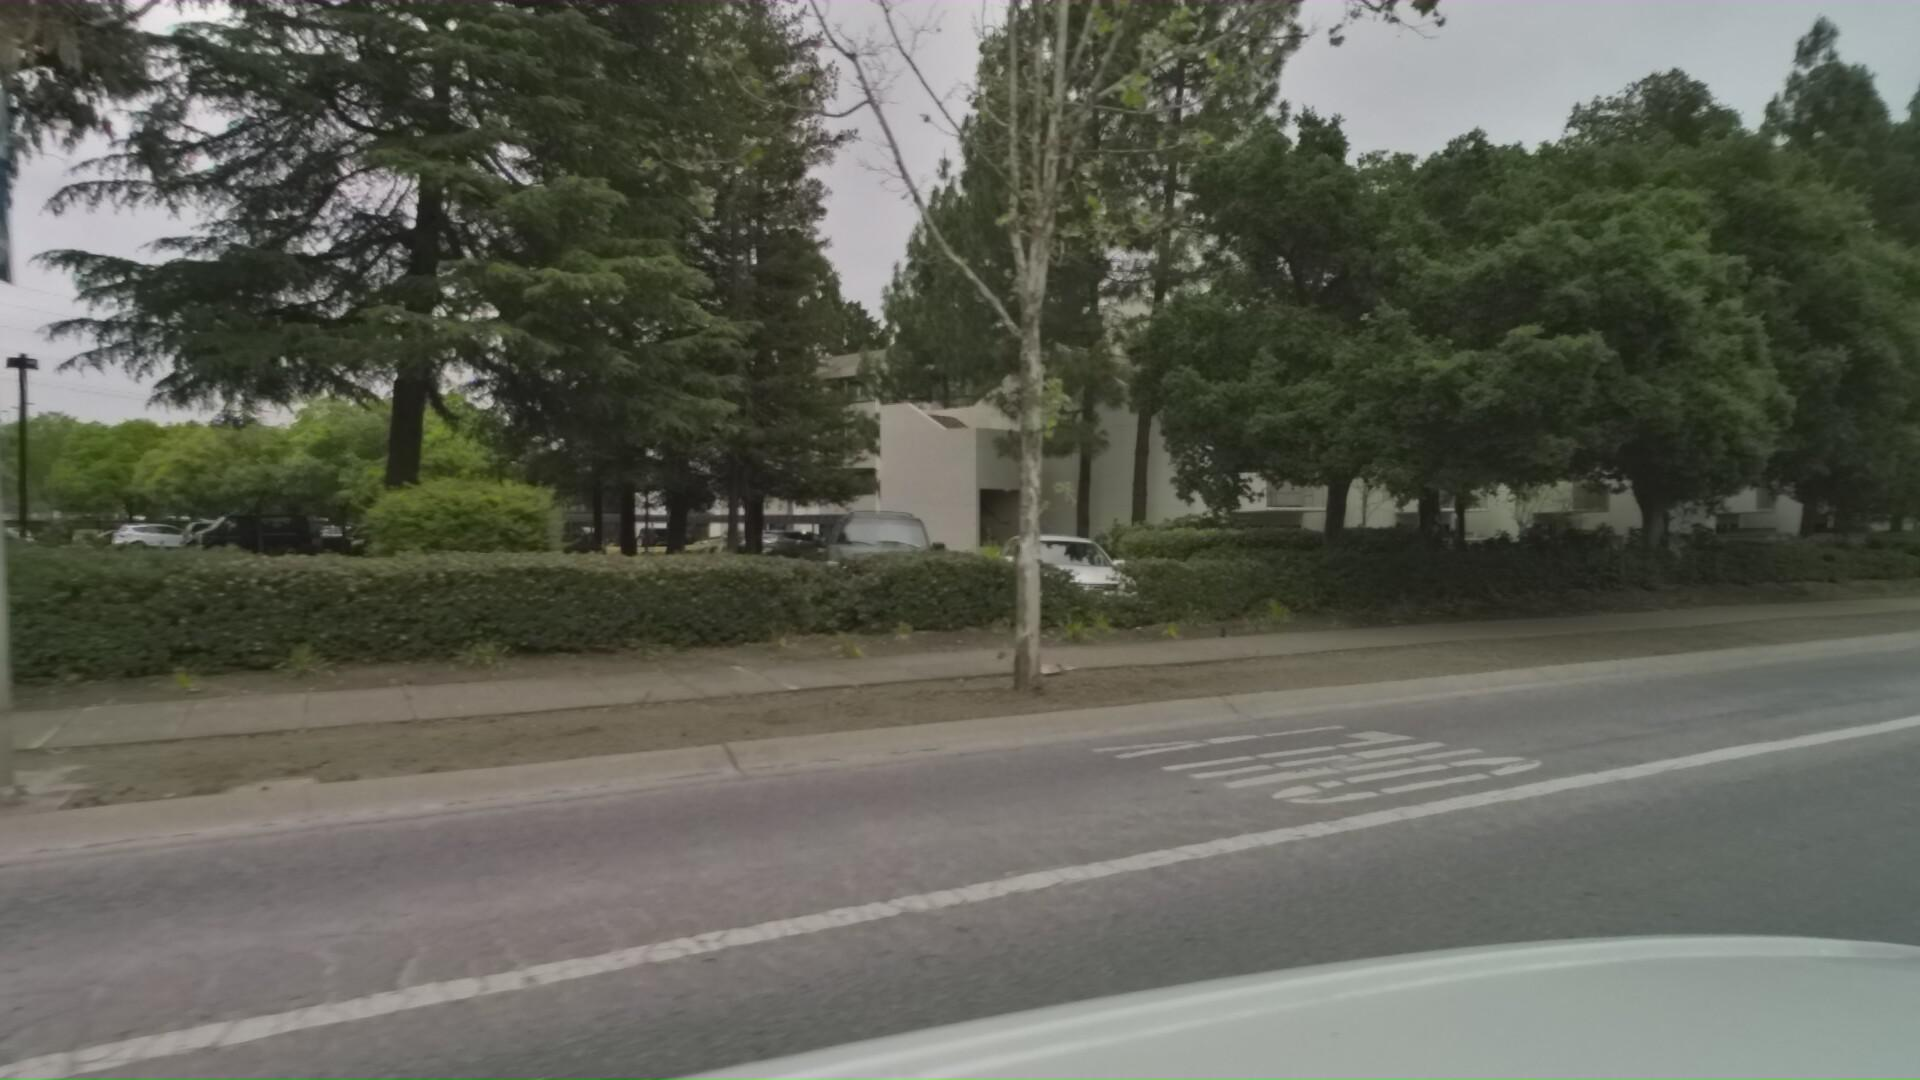car: (996, 524, 1164, 628), (837, 502, 975, 620)
